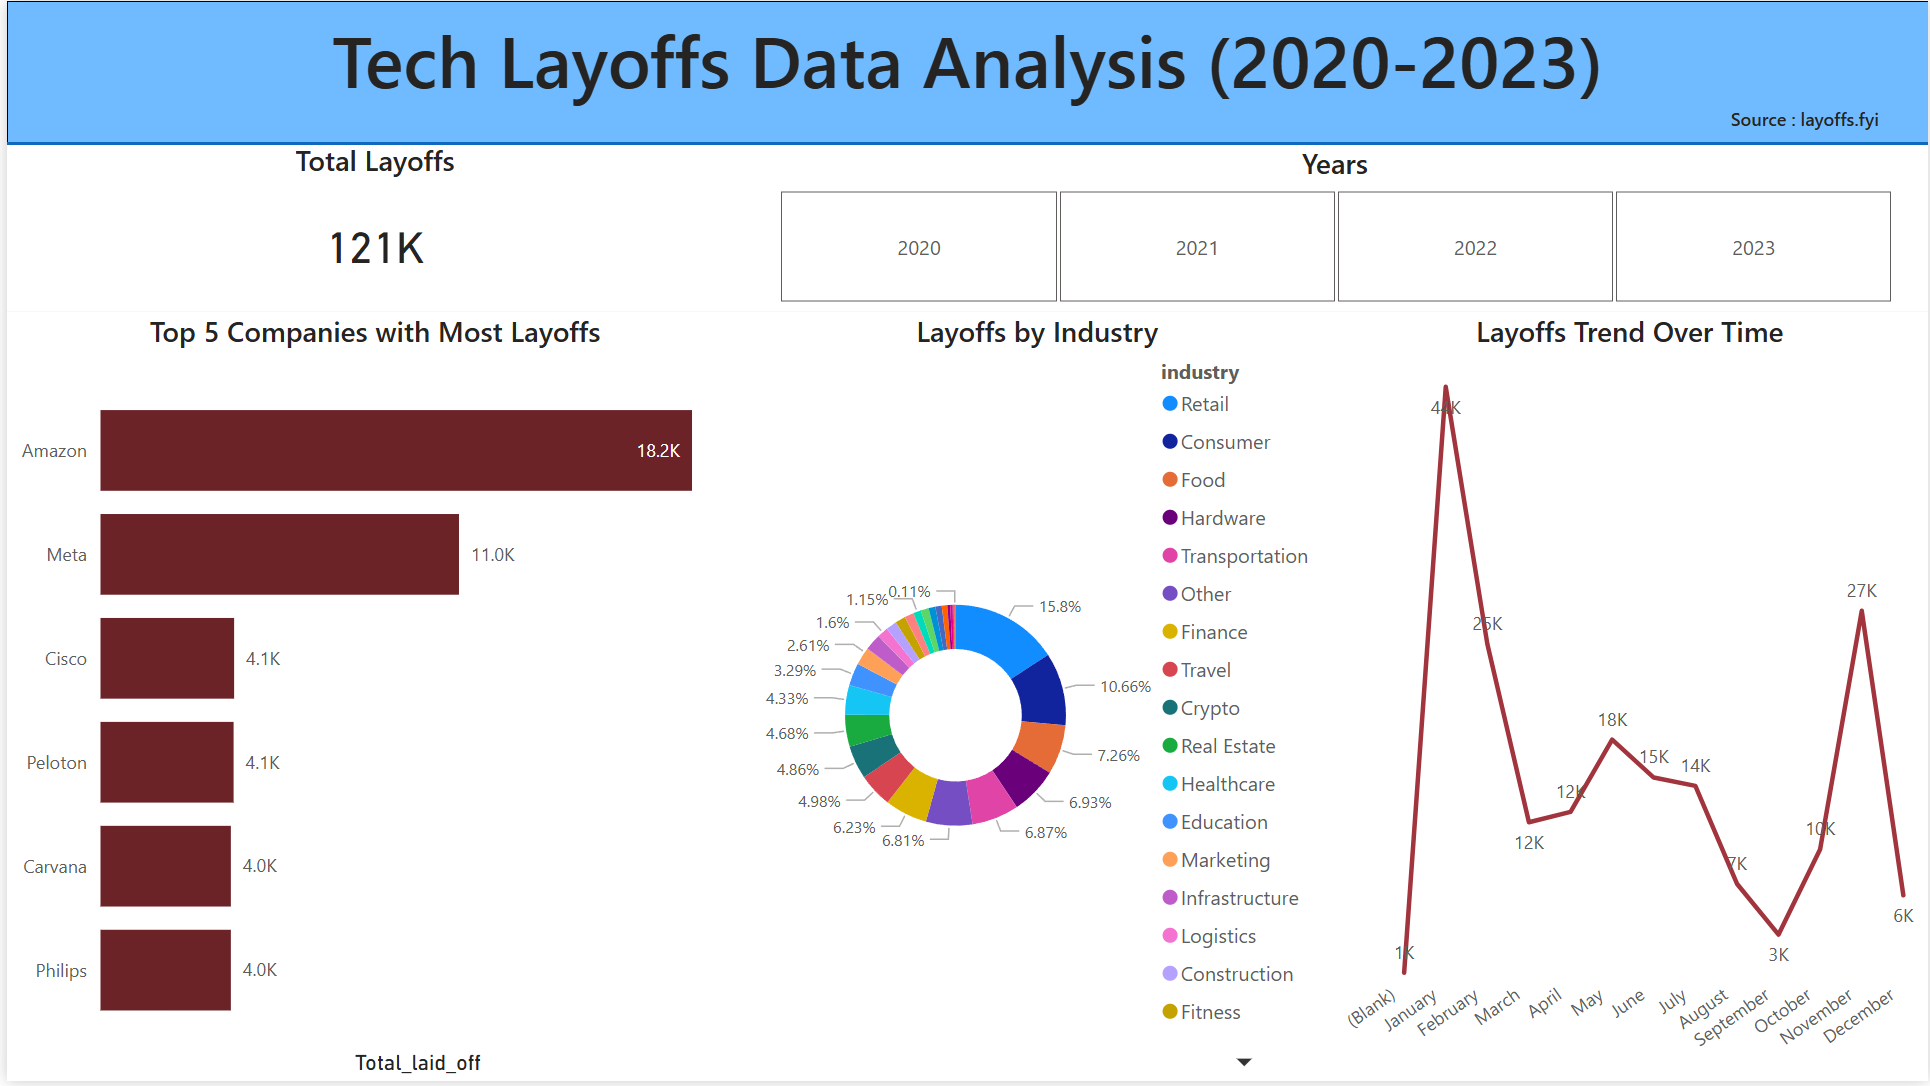

The page's visual inventory and layout, read from the dashboard file:
{"tool":"powerbi","page":{"name":"Page 1","canvas":[1280,720],"ordinal":0},"visuals":[{"type":"slicer","title":"Years","fields":{"Values":["layoffs_for_bi.years"]},"box":[490,95,790,112],"z":0},{"type":"clusteredBarChart","title":"Top 5 Companies with Most Layoffs","fields":{"Category":["layoffs_for_bi.company"],"Y":["Sum(layoffs_for_bi.total_laid_off)"]},"box":[0,207,490,513],"z":1000},{"type":"card","title":"Total Layoffs","fields":{"Values":["Sum(layoffs_for_bi.total_laid_off)"]},"box":[0,93,490,114],"z":2000},{"type":"textbox","box":[0,0,1281,95],"z":3000},{"type":"shape","box":[0,20,1281,150],"z":4000},{"type":"donutChart","title":"Layoffs by Industry","fields":{"Category":["layoffs_full_data.industry"],"Y":["Sum(layoffs_full_data.total_laid_off)"]},"box":[490,207,393,513],"z":5000},{"type":"lineChart","title":"Layoffs Trend Over Time","fields":{"Category":["layoffs_full_data.date.Variation.Date Hierarchy.Month"],"Y":["Sum(layoffs_full_data.total_laid_off)"]},"box":[883,207,397,513],"z":6000},{"type":"textbox","box":[1124,63,156,30],"z":6001}]}

Visuals, with their boxes in screenshot pixels (x1, y1, x2, y2), scaled from the page's 1280x720 canvas onto the 1930x1086 screenshot:
"Years" slicer: 739, 143, 1929, 312
"Top 5 Companies with Most Layoffs" clusteredBarChart: 0, 312, 739, 1085
"Total Layoffs" card: 0, 140, 739, 312
textbox: 0, 0, 1929, 143
shape: 0, 30, 1929, 256
"Layoffs by Industry" donutChart: 739, 312, 1331, 1085
"Layoffs Trend Over Time" lineChart: 1331, 312, 1929, 1085
textbox: 1695, 95, 1929, 140
